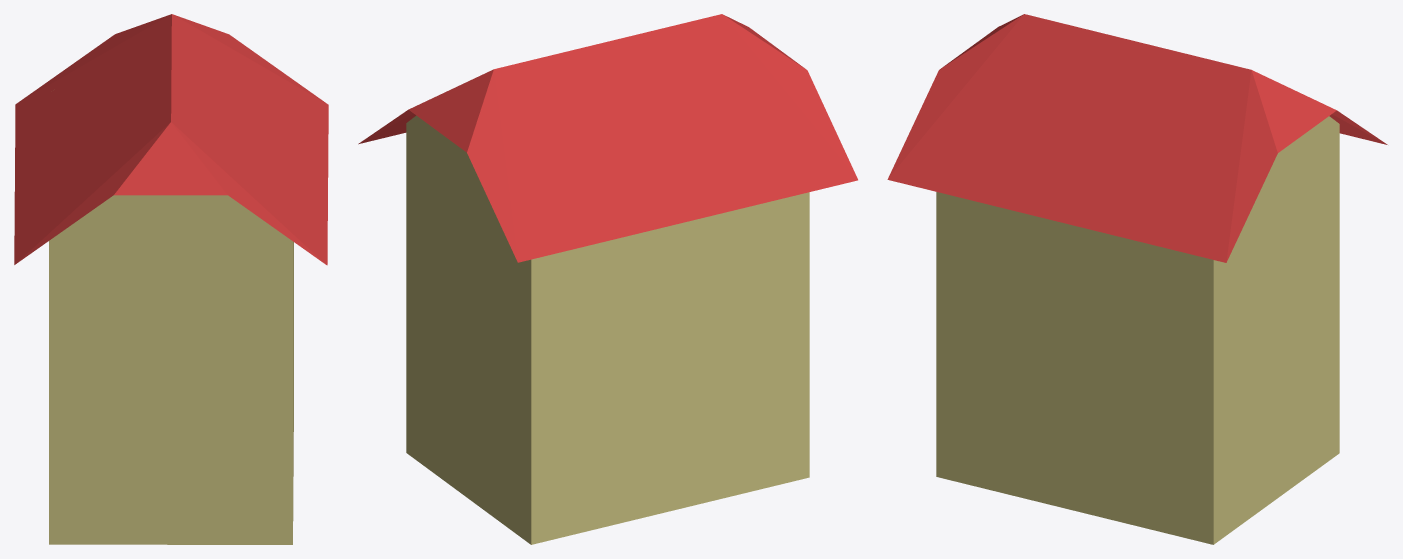
The picture shows the model from 3 angles, left to right: view 1: azimuth 30°, elevation 25°; view 2: azimuth 150°, elevation 25°; view 3: azimuth 270°, elevation 25°; orthographic projection. The views are drawn at different scales.
Parts seen in each view (by area): view 1: group_5, group_3, group_4; view 2: group_5, group_3, group_4; view 3: group_5, group_3, group_4.
Part boxes in pixels (x1,y1,x2,y2): group_5: (49,195,293,544); group_3: (14,14,328,265); group_4: (14,34,327,264); group_5: (406,115,809,544); group_3: (358,14,857,262); group_4: (359,90,857,262); group_5: (936,116,1339,544); group_3: (887,14,1387,262); group_4: (888,68,1386,262).
Bounding box in the file's own units: 13.35 × 14.05 × 13.09.
